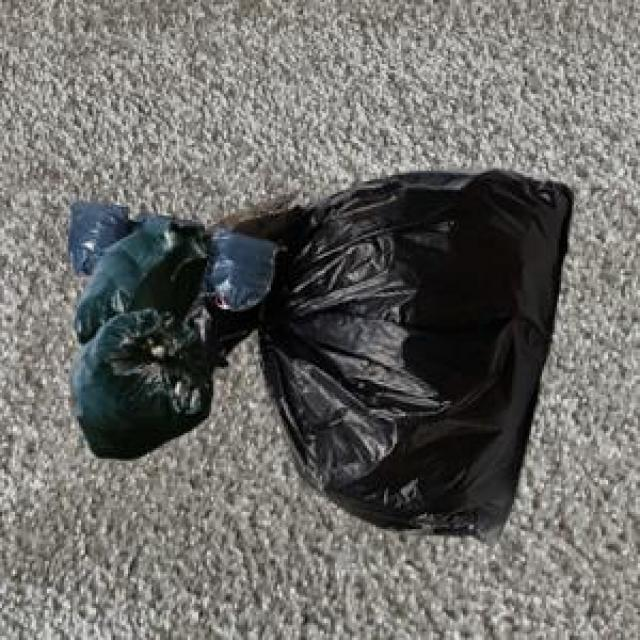waste: (278, 174, 572, 536), (72, 312, 211, 438), (71, 204, 200, 312), (208, 228, 282, 318)
